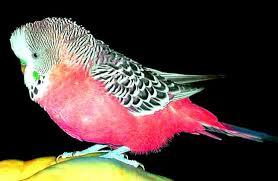budgie: (8, 15, 269, 169)
